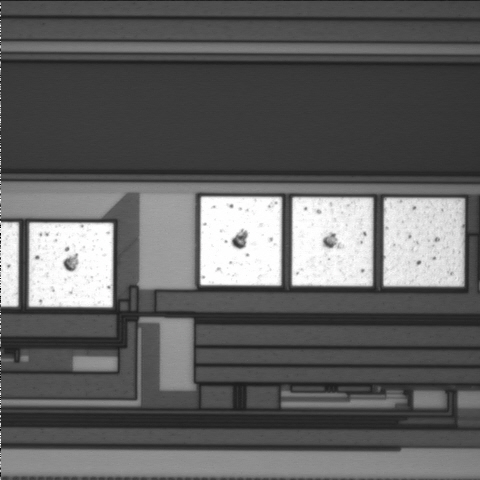pad: (200, 197, 282, 286), (292, 197, 373, 286), (383, 198, 464, 286), (29, 223, 113, 307)
